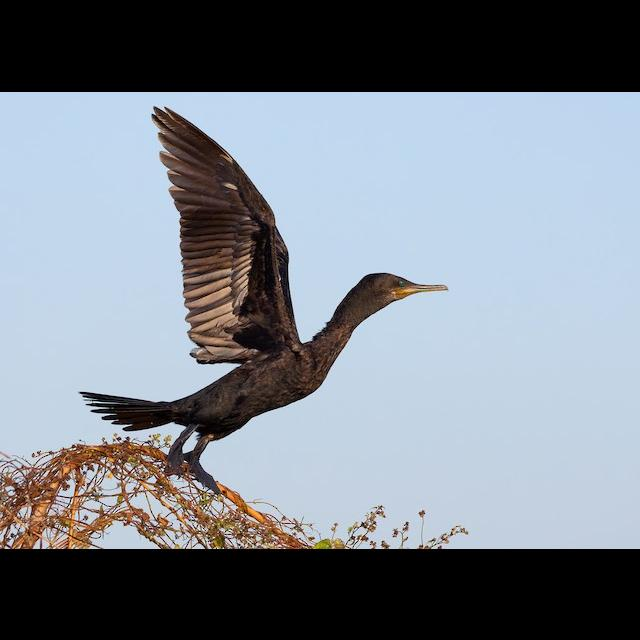cormorant: (68, 106, 450, 500)
